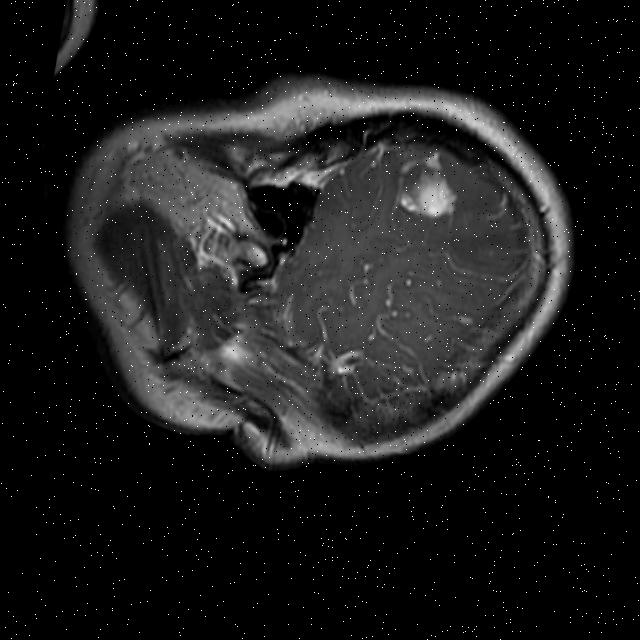Glioma: (387, 144, 468, 225)
